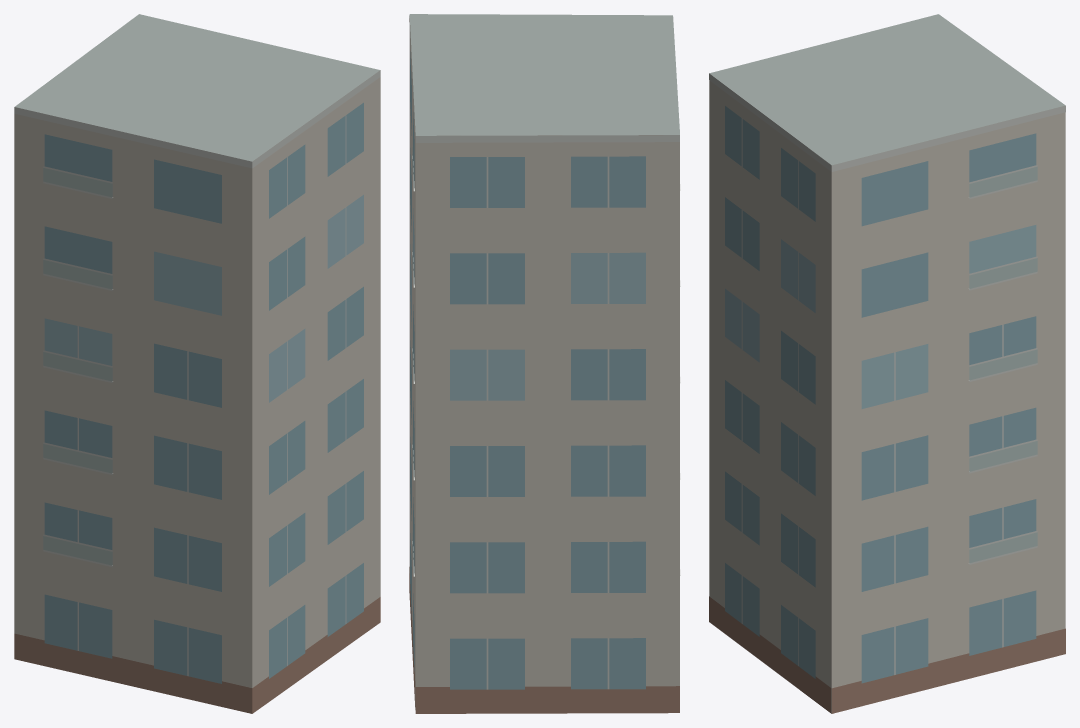
Rendered from survey-upis-32877353.glb.
The picture shows the model from 3 angles, left to right: view 1: azimuth 30°, elevation 25°; view 2: azimuth 150°, elevation 25°; view 3: azimuth 270°, elevation 25°; orthographic projection. The views are drawn at different scales.
Visible parts, largest first — view 1: survey-upis-32877353.tmp; view 2: survey-upis-32877353.tmp; view 3: survey-upis-32877353.tmp.
Part boxes in pixels (bbox=[...]): survey-upis-32877353.tmp: bbox=[14, 14, 380, 713]; survey-upis-32877353.tmp: bbox=[409, 14, 680, 713]; survey-upis-32877353.tmp: bbox=[709, 14, 1065, 713].
Size of the model in its own units: 11.79 by 19.9 by 11.74.
